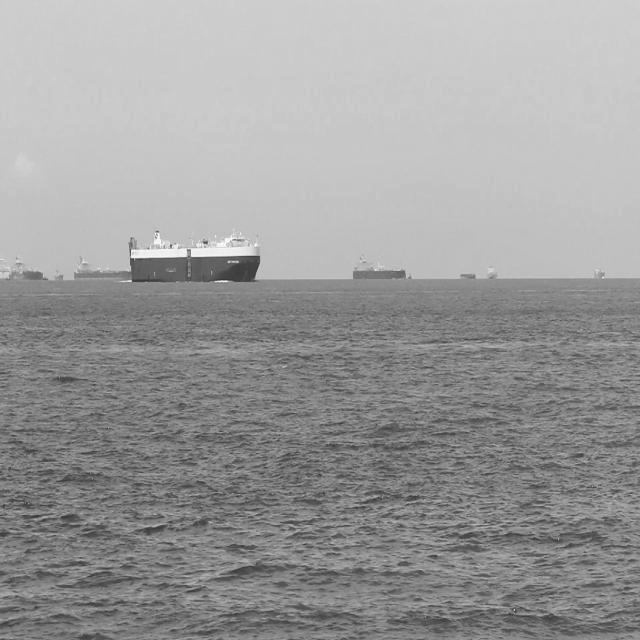ship: (124, 233, 260, 283), (349, 252, 406, 282), (8, 250, 44, 288), (72, 256, 128, 278), (0, 257, 15, 285), (482, 262, 500, 284), (458, 268, 478, 284), (592, 261, 607, 282), (54, 264, 66, 286), (43, 268, 52, 288), (402, 272, 414, 282)
